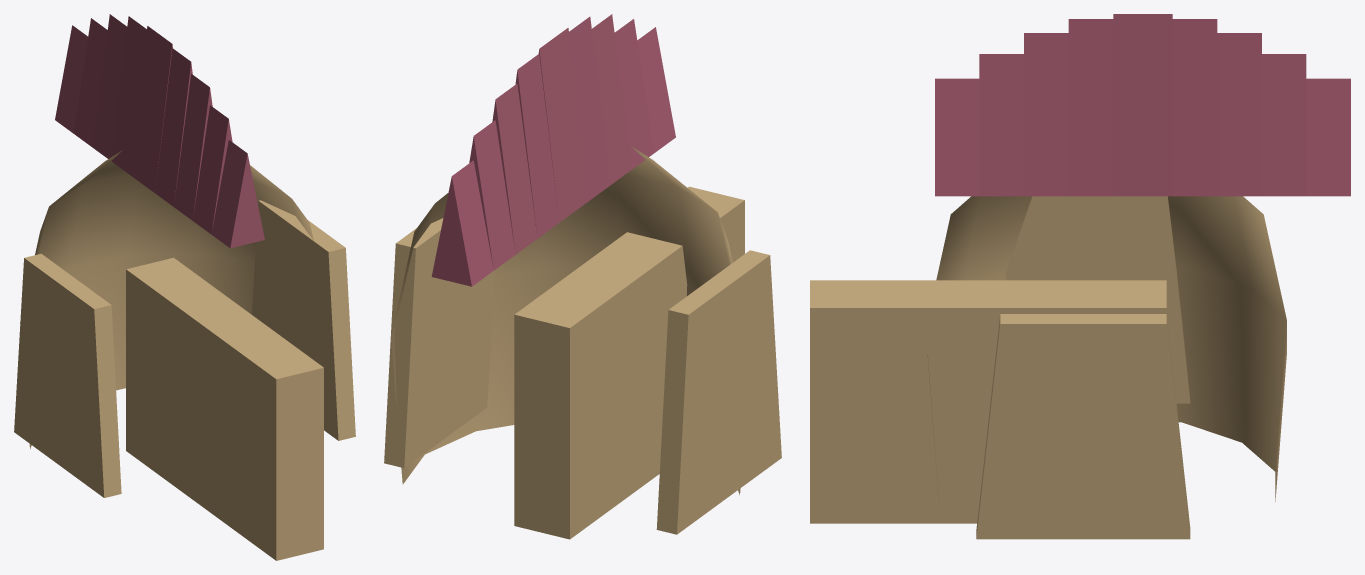
Rendered from mythic-underworld-and-olympus-crested-helm-1d654288__21417.glb.
3 views of the same model, side by side, from view 1: azimuth 30°, elevation 25°; view 2: azimuth 150°, elevation 25°; view 3: azimuth 270°, elevation 25° (orthographic). The views are drawn at different scales.
Parts seen in each view (by area): view 1: crested-helm; view 2: crested-helm; view 3: crested-helm.
Boxes of the visible parts, box(x1,y1,x2,y2) form: crested-helm: box(14, 14, 355, 560); crested-helm: box(384, 14, 781, 539); crested-helm: box(810, 14, 1350, 539).
Bounding box in the file's own units: 0.31 × 0.46 × 0.455.
